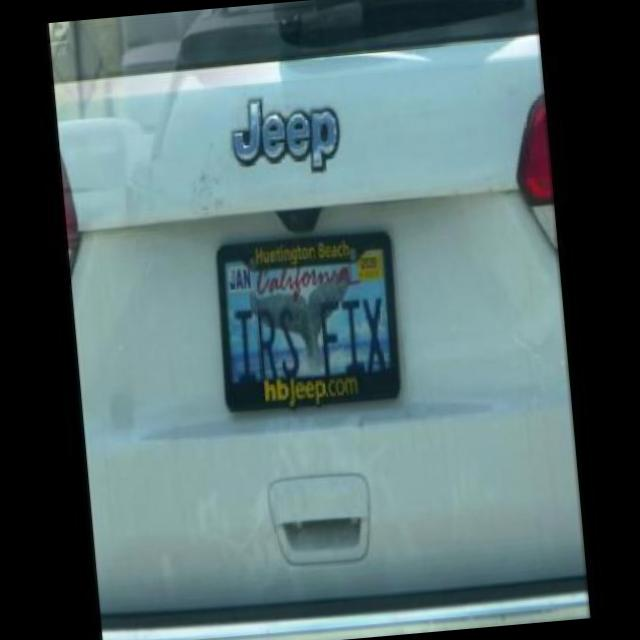LicensePlate: (212, 230, 406, 411)
